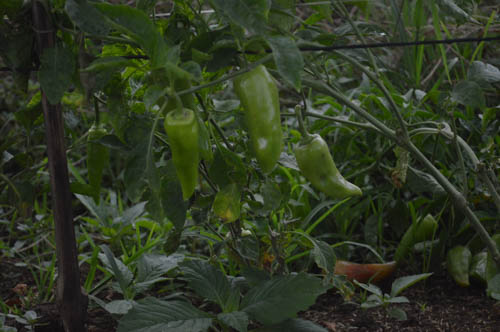ChiliPepper: (240, 72, 281, 174), (311, 138, 360, 201), (162, 115, 195, 200), (449, 248, 470, 286)
